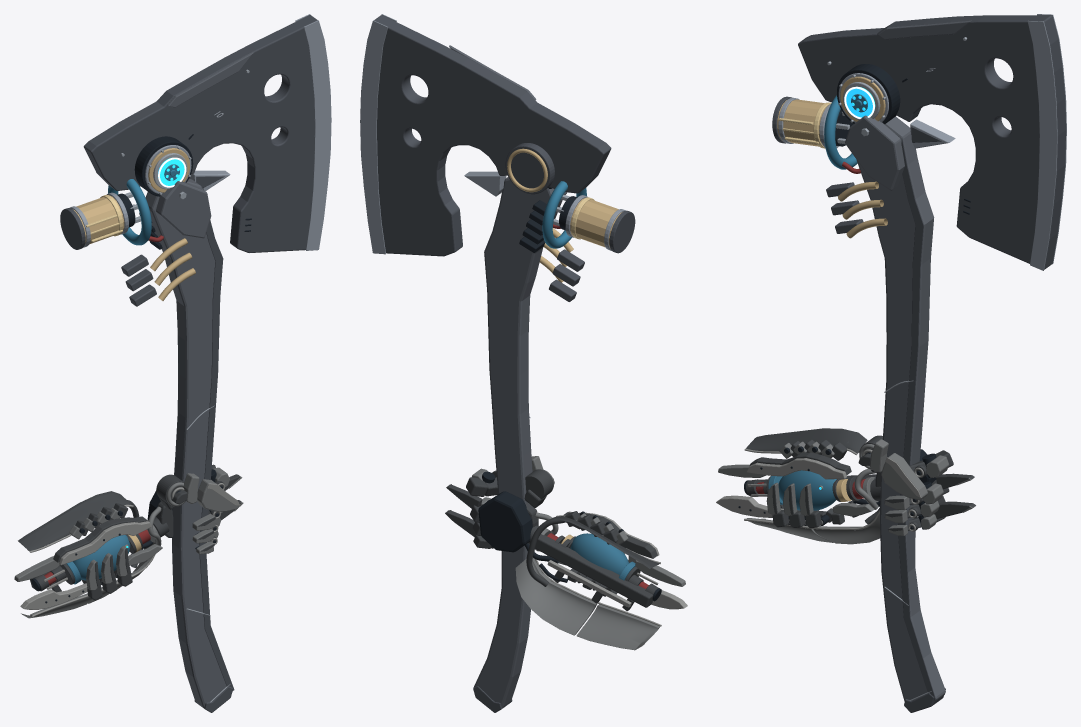
File: warden-floating-axe-audition-v1.glb
3 renders of one model, left to right at view 1: azimuth 30°, elevation 25°; view 2: azimuth 150°, elevation 25°; view 3: azimuth 330°, elevation 25°, orthographic. The views are drawn at different scales.
Parts seen in each view (by area): view 1: Blade | pierced crescent monolith, Haft | continuous curved structural beam, Blade | curved sharpened bevel, Haft | upper facet, Head | armored gearbox cover, Cage | long left curved shell, Head | brass power cylinder, Cage | sculpted left inset rail, Head | blue suspension cradle, Blade | spine reinforcement, Pivot | outer bearing, Cage | inset blue oval core (+5 smaller); view 2: Blade | pierced crescent monolith, Haft | continuous curved structural beam, Blade | curved sharpened bevel.001, Cage | right upper curved shell, Palm | dark asymmetrical chassis, Cage | right lower split shell, Cage | exposed central backbone, Pivot | rear cover, Head | brass power cylinder, Cage | inset blue oval core, Head | blue suspension cradle, Head | power cylinder band.003 (+8 smaller); view 3: Blade | pierced crescent monolith, Haft | continuous curved structural beam, Blade | curved sharpened bevel, Haft | upper facet, Head | armored gearbox cover, Cage | long left curved shell, Cage | inset blue oval core, Head | brass power cylinder, Cage | sculpted left inset rail, Pivot | outer bearing, Hand | large swept index shield, Blade | spine reinforcement (+6 smaller).
Boxes of the visible parts, <box> form: Blade | pierced crescent monolith: <box>83,15,317,252</box>; Haft | continuous curved structural beam: <box>145,178,226,707</box>; Blade | curved sharpened bevel: <box>304,20,331,250</box>; Haft | upper facet: <box>199,187,234,690</box>; Head | armored gearbox cover: <box>156,181,211,238</box>; Cage | long left curved shell: <box>18,491,131,551</box>; Head | brass power cylinder: <box>73,195,124,244</box>; Cage | sculpted left inset rail: <box>59,521,151,565</box>; Head | blue suspension cradle: <box>108,179,151,245</box>; Blade | spine reinforcement: <box>167,52,253,107</box>; Pivot | outer bearing: <box>134,136,193,196</box>; Cage | inset blue oval core: <box>73,535,130,580</box>; Blade | pierced crescent monolith: <box>374,15,611,256</box>; Haft | continuous curved structural beam: <box>474,177,562,707</box>; Blade | curved sharpened bevel.001: <box>360,20,388,254</box>; Cage | right upper curved shell: <box>515,557,597,635</box>; Palm | dark asymmetrical chassis: <box>478,491,532,552</box>; Cage | right lower split shell: <box>576,604,659,650</box>; Cage | exposed central backbone: <box>535,534,653,607</box>; Pivot | rear cover: <box>505,143,554,194</box>; Head | brass power cylinder: <box>570,198,622,248</box>; Cage | inset blue oval core: <box>570,533,628,574</box>; Head | blue suspension cradle: <box>542,181,586,248</box>; Head | power cylinder band.003: <box>609,210,635,253</box>; Blade | pierced crescent monolith: <box>798,15,1065,269</box>; Haft | continuous curved structural beam: <box>856,116,945,703</box>; Blade | curved sharpened bevel: <box>1027,20,1057,270</box>; Haft | upper facet: <box>898,137,935,700</box>; Head | armored gearbox cover: <box>845,115,904,190</box>; Cage | long left curved shell: <box>746,428,867,453</box>; Cage | inset blue oval core: <box>778,470,836,510</box>; Head | brass power cylinder: <box>777,99,827,146</box>; Cage | sculpted left inset rail: <box>746,458,846,479</box>; Pivot | outer bearing: <box>837,64,900,124</box>; Hand | large swept index shield: <box>881,453,927,500</box>; Blade | spine reinforcement: <box>878,20,971,39</box>.
Size of the model in its own units: 0.6195 by 1.25 by 0.14.
